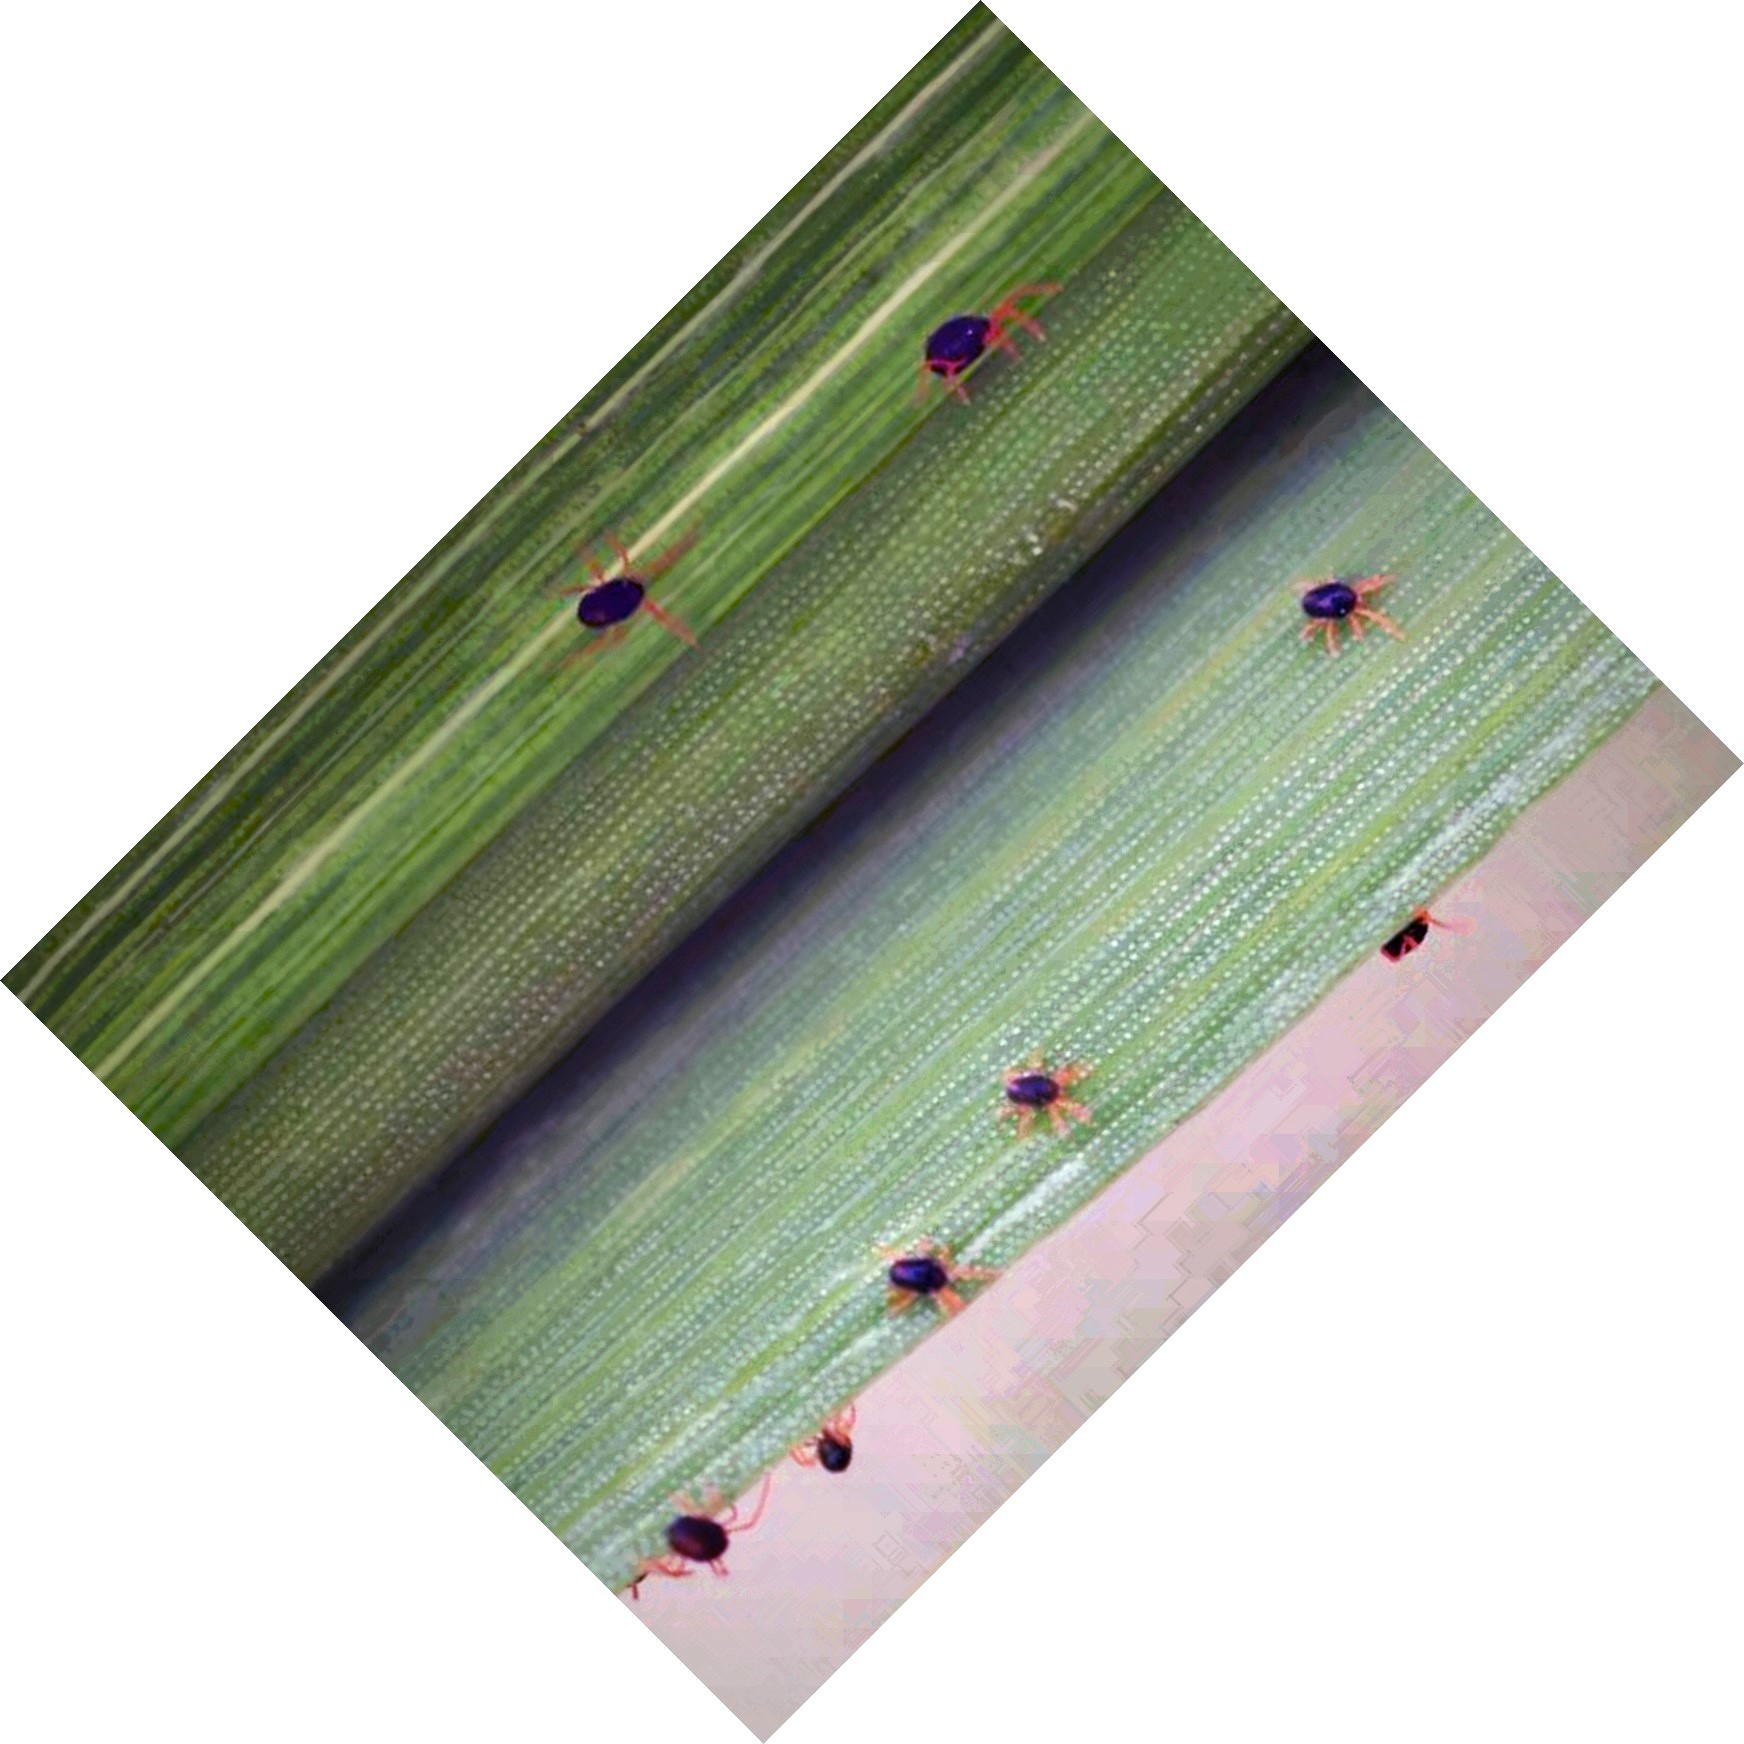Wheat Red Spider: (840, 1032, 1175, 1378), (535, 500, 770, 671), (1246, 529, 1425, 679)
